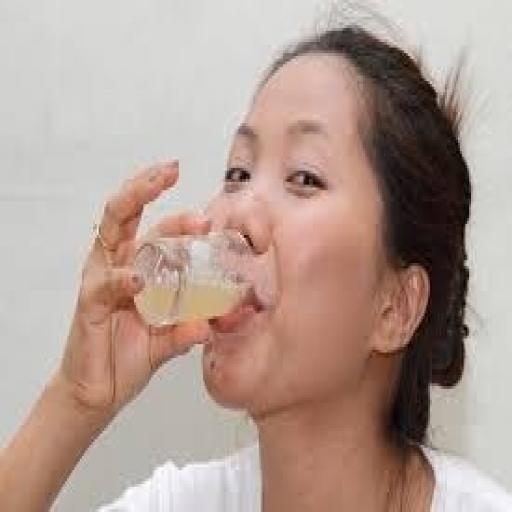drinking: (130, 227, 257, 327)
